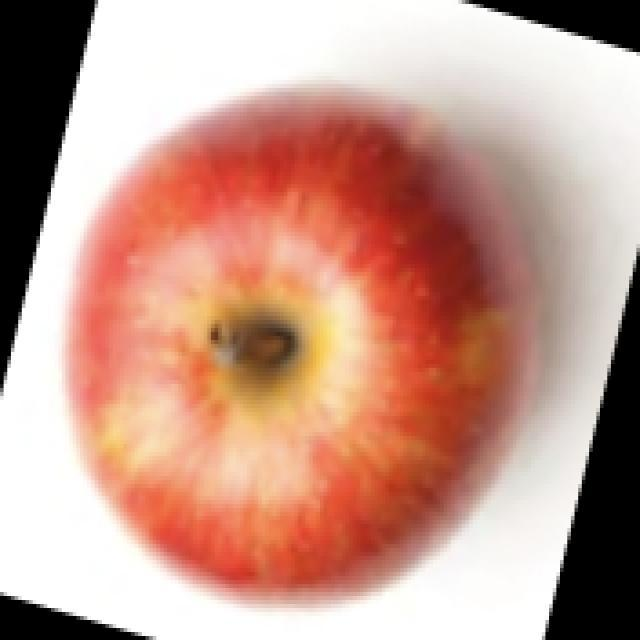Fresh Apple: (100, 102, 547, 605)
